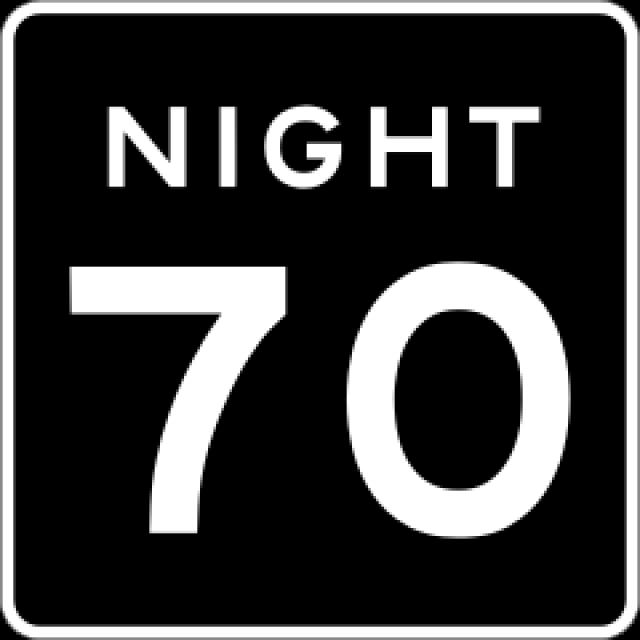Speed Limit -70-: (39, 205, 597, 580)
